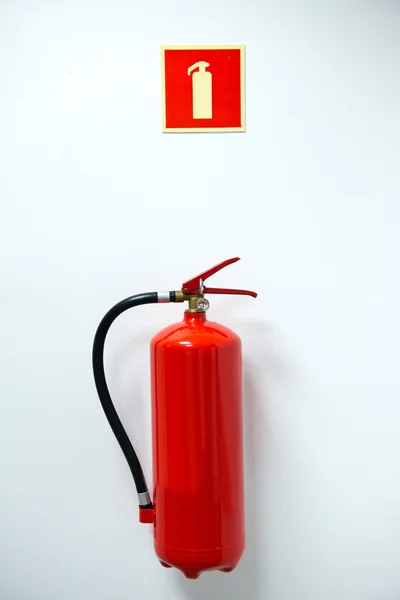fire_extinguisher: (92, 256, 258, 580)
